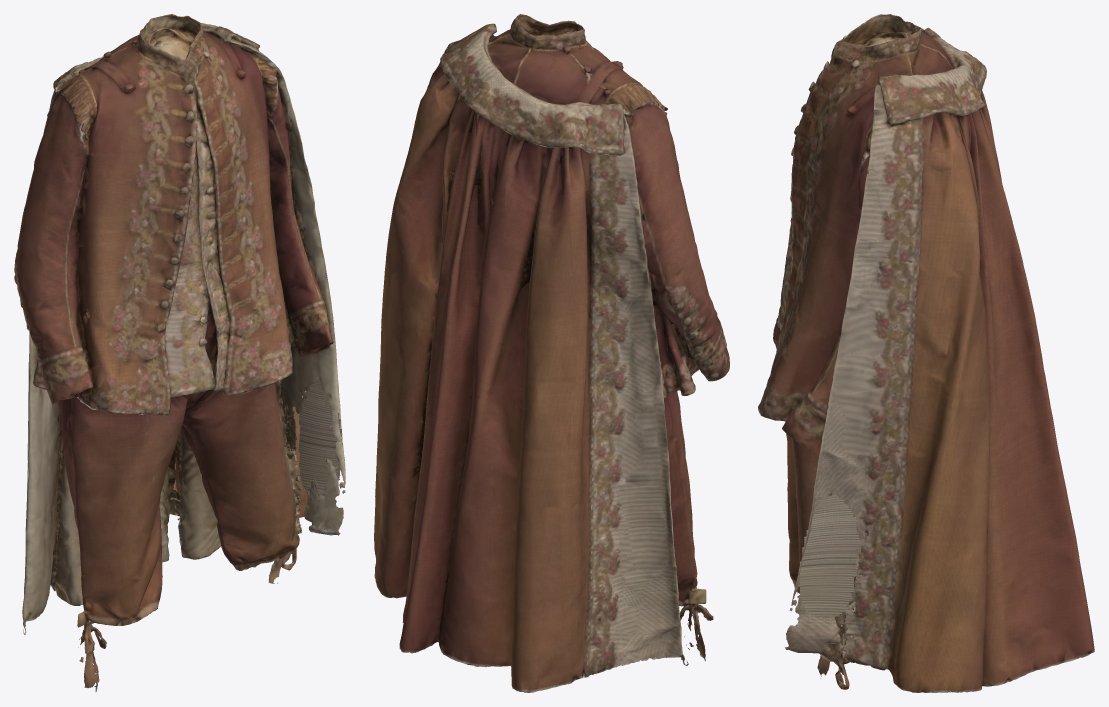
The model's file is national-costume.glb.
3 views of the same model, side by side, from view 1: azimuth 30°, elevation 25°; view 2: azimuth 150°, elevation 25°; view 3: azimuth 270°, elevation 25° (orthographic). The views are drawn at different scales.
Visible parts, largest first — view 1: Object_2; view 2: Object_2; view 3: Object_2.
Part boxes in pixels (bbox=[...]): Object_2: bbox=[14, 14, 345, 692]; Object_2: bbox=[374, 14, 729, 692]; Object_2: bbox=[758, 14, 1094, 692].
Bounding box in the file's own units: 0.5499 × 1.07 × 0.4847.
2 materials, 2 textured.
